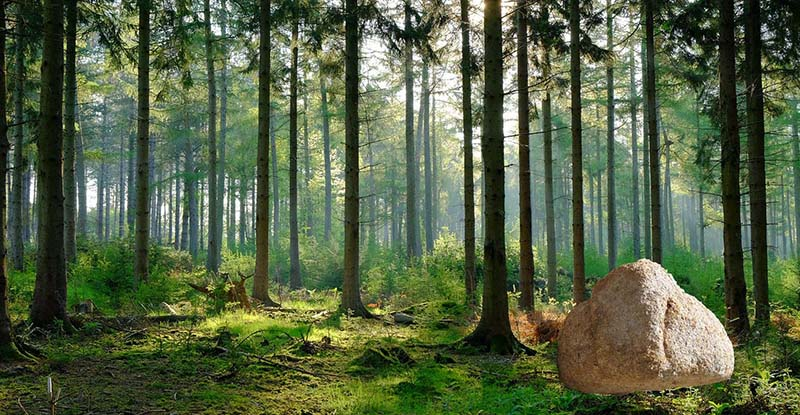Rocks: (547, 253, 740, 396)
